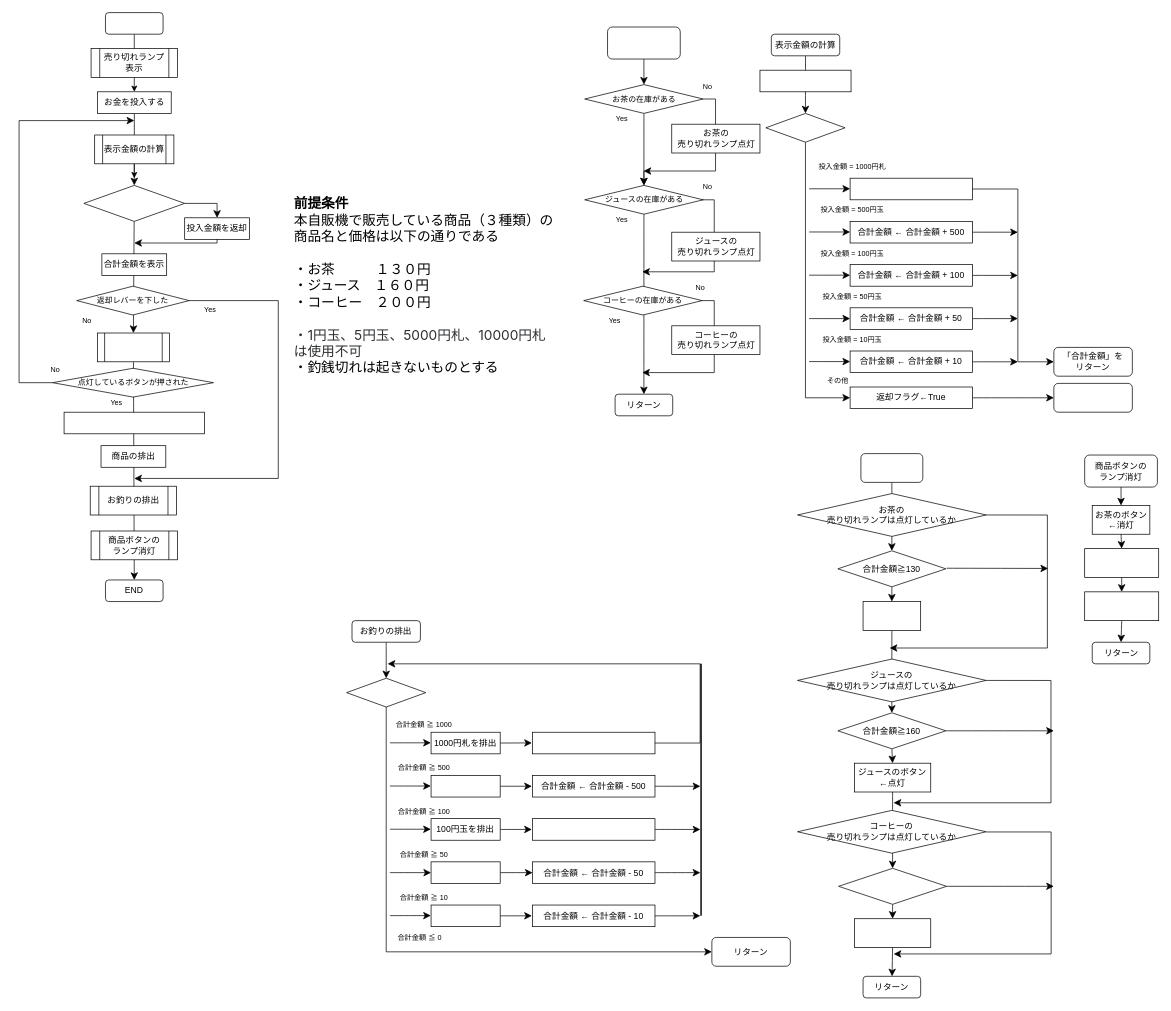
Image size: 1171x1011. Some labels were removed from this diagram. The shapes that lost their labels are listed below. From the top down, each one's centre as x and y in pixels, then its label:
At point (134, 23): "START".
At point (643, 42): "売り切れランプの表示".
At point (805, 80): "返却フラグ ← False".
At point (805, 127): "投入金額".
At point (134, 203): "返却フラグ = True".
At point (911, 188): "合計金額 ← 合計金額 + 1000".
At point (133, 347): "商品ボタンのランプ点灯".
At point (1092, 397): "「返却」を リターン".
At point (133, 422): "合計金額 ← 合計金額 - 商品金額".
At point (891, 467): "商品ボタンの ランプ点灯".
At point (1121, 562): "ジュースのボタン←消灯".
At point (891, 615): "お茶のボタン ←点灯".
At point (1121, 606): "コーヒーのボタン←消灯".
At point (386, 692): "合計金額".
At point (593, 743): "合計金額 ← 合計金額 - 1000".
At point (465, 786): "500円玉を排出".
At point (593, 829): "合計金額 ← 合計金額 - 100".
At point (465, 872): "50円玉を排出".
At point (892, 886): "合計金額≧200".
At point (465, 915): "10円玉を排出".
At point (892, 933): "コーヒーのボタン←点灯".
